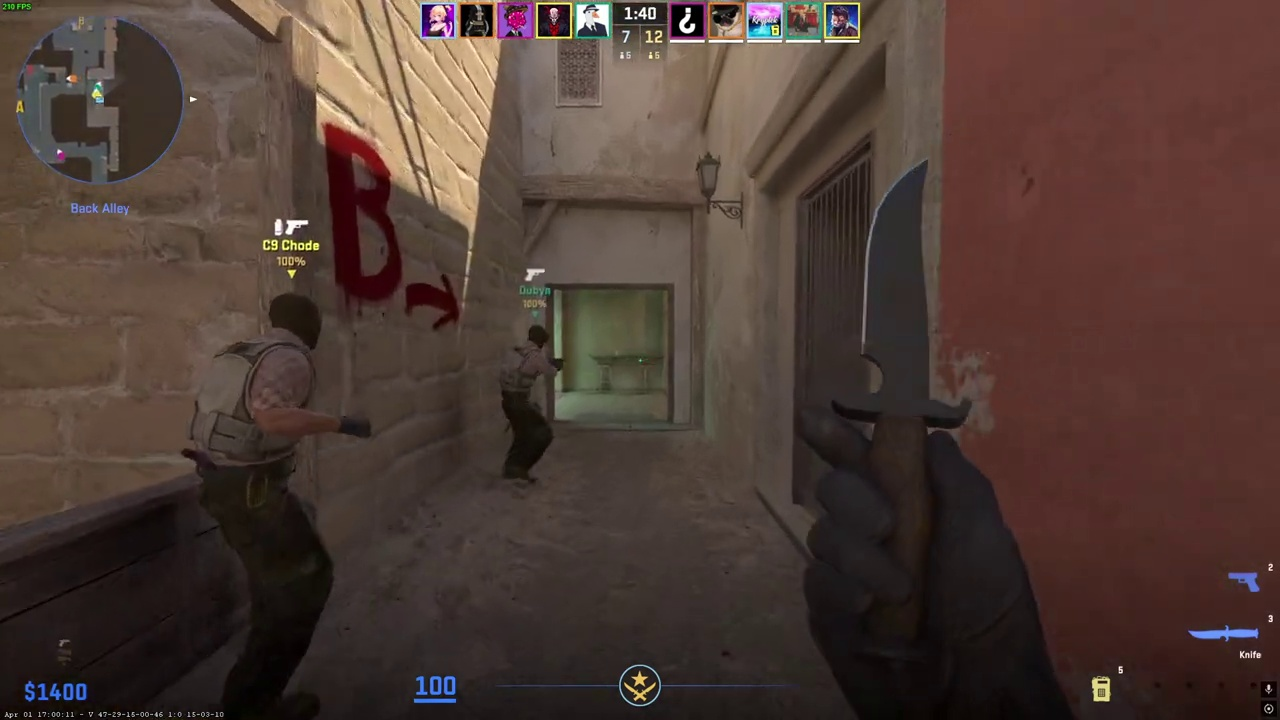Terrorist: (185, 292, 354, 720), (498, 324, 560, 483)
